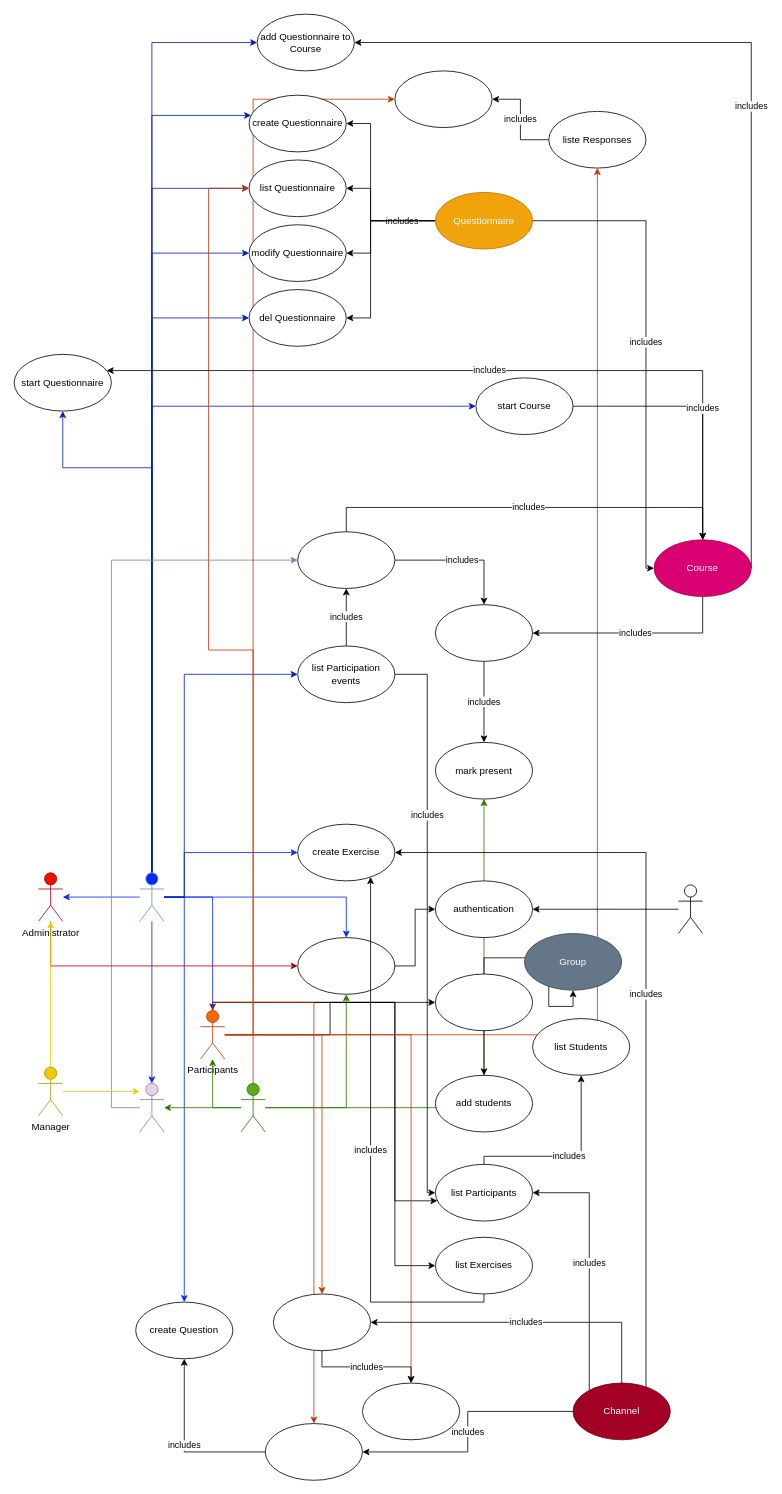
This 782x1494 diagram has some shape labels left out. The centre of each missing label's shape, as x and y in pixels:
"Attendance" goes at point 484,632.
"create Group" goes at point 484,1002.
"list Attendance" goes at point 346,559.
"list Questions" goes at point 313,1451.
"list Responses" goes at point 322,1322.
"login" goes at point 346,965.
"MBE Server" goes at point 690,909.
"Member" goes at point 151,1107.
"Professor" goes at point 151,896.
"Respond to a Question" goes at point 411,1411.
"Response to a Questionnaire" goes at point 443,99.
"Student" goes at point 252,1107.
